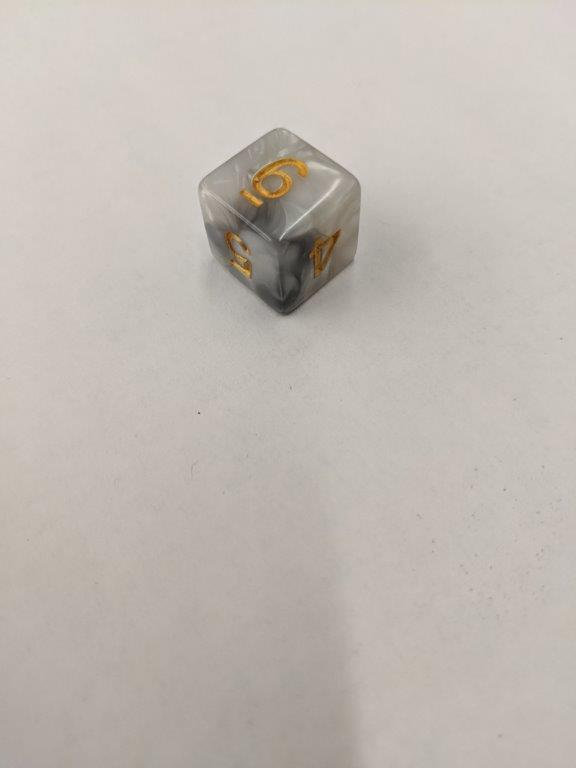d6-6: (197, 126, 361, 316)
